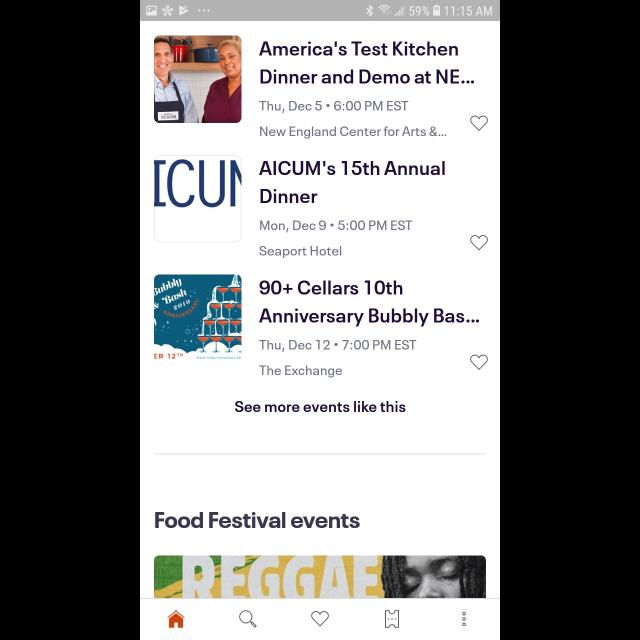icon: (167, 610, 185, 628), (470, 116, 488, 132), (470, 354, 488, 370), (240, 609, 256, 627), (311, 610, 329, 626), (470, 236, 488, 250), (385, 610, 399, 628), (462, 612, 466, 626)
image: (154, 556, 486, 598), (154, 156, 242, 242), (154, 36, 242, 122), (154, 274, 242, 360)
text: (259, 281, 479, 327), (258, 42, 474, 84), (259, 160, 445, 203), (259, 101, 446, 139), (259, 340, 416, 378), (260, 220, 412, 258), (156, 512, 360, 528), (235, 400, 405, 412)
uppertaskbar: (140, 1, 500, 22)
